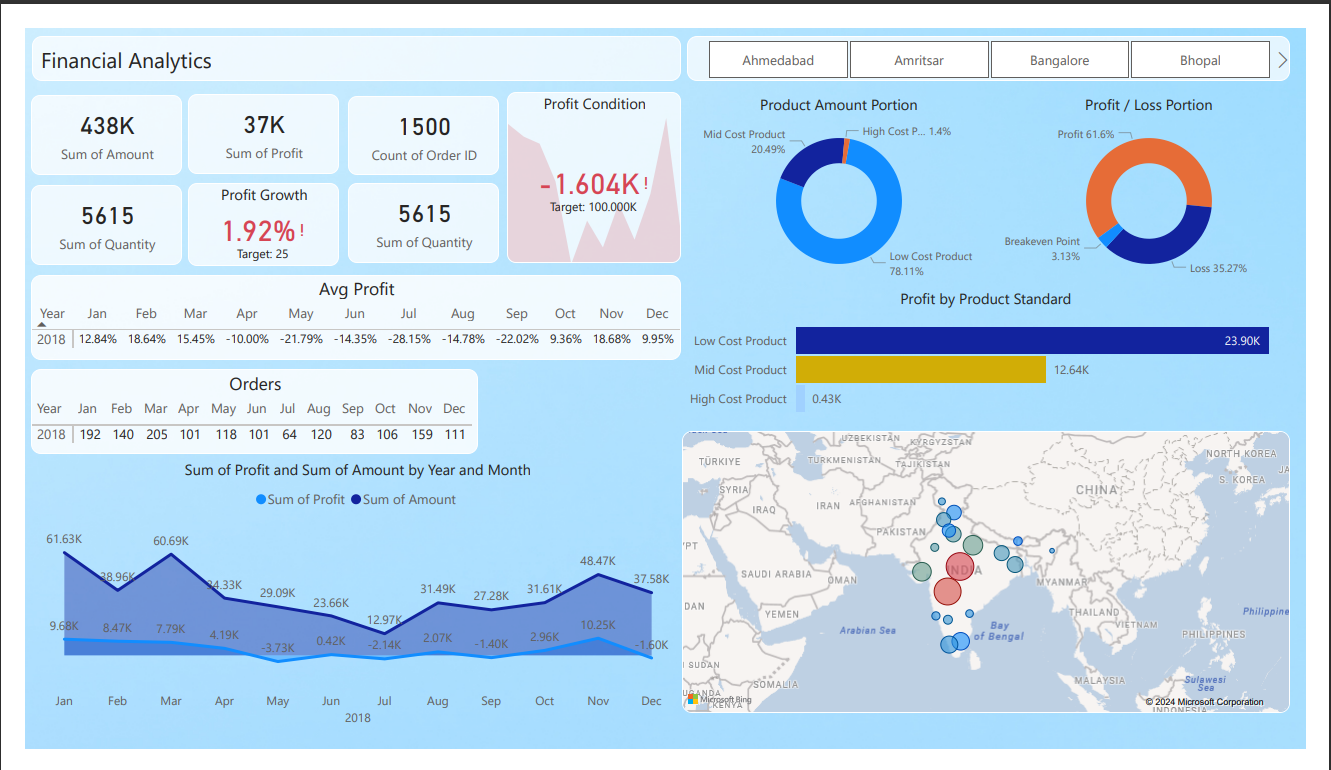

What the dashboard file says about the page in this screenshot:
{"tool":"powerbi","page":{"name":"Financial Behavior","canvas":[1280,720],"ordinal":0},"visuals":[{"type":"card","fields":{"Values":["Sum(Details.Amount)"]},"box":[6.2,66.6,151,79.9],"z":0},{"type":"card","fields":{"Values":["Sum(Details.Profit)"]},"box":[163.4,65.7,151,79.9],"z":1000},{"type":"card","fields":{"Values":["CountNonNull(Details.Order ID)"]},"box":[323.3,67.5,151,79.1],"z":2000},{"type":"card","fields":{"Values":["Sum(Details.Quantity)"]},"box":[6.2,157.2,151,79.9],"z":3000},{"type":"donutChart","title":"Profit / Loss Portion","fields":{"Category":["Details.Profit and Loss"],"Y":["CountNonNull(Details.Profit and Loss)"]},"box":[967.6,65.9,312.6,188.8],"z":4000},{"type":"donutChart","title":"Product Amount Portion","fields":{"Y":["Sum(Details.Amount)"],"Category":["Details.Product Standard"]},"box":[656.8,65.9,314.3,188.8],"z":5000},{"type":"barChart","title":"Profit by Product Standard","fields":{"Category":["Details.Product Standard"],"Y":["Sum(Details.Profit)"]},"box":[656.8,254.6,608.5,141.4],"z":6000},{"type":"areaChart","fields":{"Category":["Orders.Year","Orders.Month"],"Y":["Sum(Details.Profit)","Sum(Details.Amount)"]},"box":[17.8,426.4,629.8,280.7],"z":7000},{"type":"map","fields":{"Category":["Orders.State"],"Size":["Sum(Details.Profit)"]},"box":[656.8,403,608.5,281.9],"z":8000},{"type":"kpi","title":"Profit Condition","fields":{"Indicator":["Sum(Details.Profit)"],"TrendLine":["Orders.Month"],"Goal":["Details.Profit Target"]},"box":[482.3,64,174.1,170.5],"z":9000},{"type":"kpi","title":"Profit Growth","fields":{"Indicator":["Avg(Details.Profit Percentage)"],"Goal":["Details.Profit Percentage Target"],"TrendLine":["Orders.Year"]},"box":[163.4,155.4,151,82.6],"z":10000},{"type":"card","fields":{"Values":["Sum(Details.Quantity)"]},"box":[323.3,154.6,151,79.9],"z":10001},{"type":"pivotTable","title":"Orders ","fields":{"Rows":["Orders.Year"],"Columns":["Orders.Month"],"Values":["CountNonNull(Details.Order ID)"]},"box":[6.2,341.1,446.8,85.3],"z":10002},{"type":"pivotTable","title":"Avg Profit","fields":{"Rows":["Orders.Year"],"Columns":["Orders.Month"],"Values":["Avg(Details.Profit Percentage)"]},"box":[6.2,246.9,650.2,85.3],"z":10003},{"type":"textbox","box":[7.1,8,649.3,45.3],"z":10004},{"type":"slicer","fields":{"Values":["Orders.City"]},"box":[661.8,8,603.1,45.3],"z":10005}]}

Visuals, with their boxes in screenshot pixels (x1, y1, x2, y2), scaled from the page's 1280x720 canvas onto the 1331x770 screenshot:
card - Sum(Details.Amount): 6/71/163/157
card - Sum(Details.Profit): 170/70/327/156
card - CountNonNull(Details.Order ID): 336/72/493/157
card - Sum(Details.Quantity): 6/168/163/254
"Profit / Loss Portion" donutChart: 1006/70/1330/272
"Product Amount Portion" donutChart: 683/70/1010/272
"Profit by Product Standard" barChart: 683/272/1316/424
areaChart - Orders.Year x Orders.Month: 19/456/673/756
map - Orders.State x Sum(Details.Profit): 683/431/1316/732
"Profit Condition" kpi: 502/68/683/251
"Profit Growth" kpi: 170/166/327/255
card - Sum(Details.Quantity): 336/165/493/251
"Orders " pivotTable: 6/365/471/456
"Avg Profit" pivotTable: 6/264/683/355
textbox: 7/9/683/57
slicer - Orders.City: 688/9/1315/57
